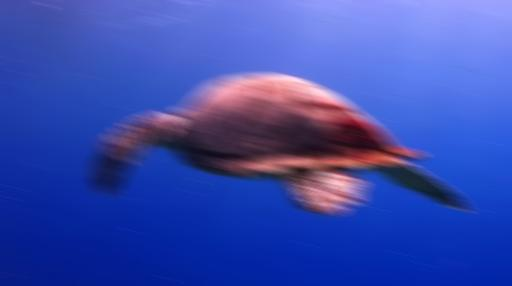Fish: (93, 73, 466, 213)
